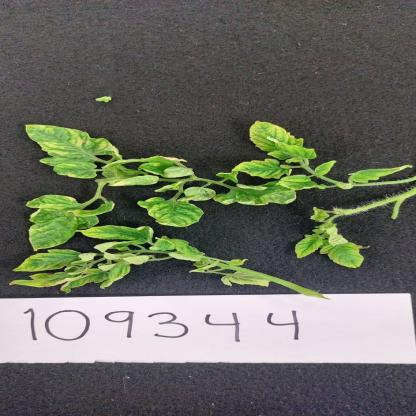T_L_R: (28, 196, 100, 251), (25, 126, 121, 166), (214, 182, 297, 207), (137, 198, 203, 228), (250, 122, 304, 153), (14, 250, 82, 272), (79, 226, 154, 245), (151, 237, 205, 263), (234, 159, 289, 180), (349, 166, 412, 184), (268, 138, 317, 161), (11, 273, 80, 289), (328, 243, 364, 269), (223, 272, 270, 288), (55, 163, 98, 180), (295, 235, 324, 259), (279, 176, 320, 191), (75, 203, 115, 218), (163, 168, 194, 179), (315, 162, 336, 177)
T_S_H: (251, 273, 329, 301), (354, 177, 416, 187)
